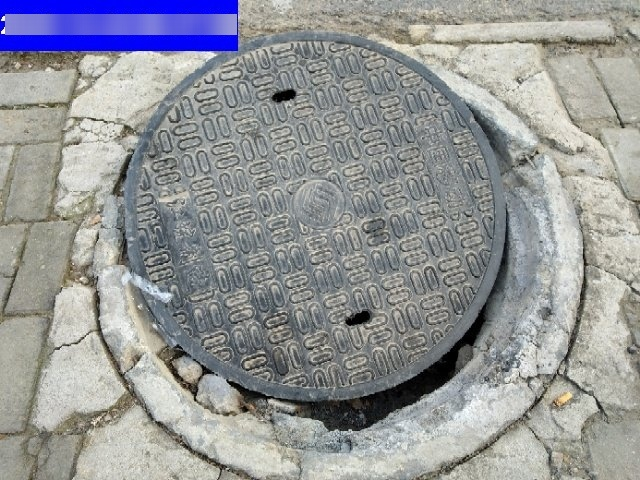uncovered: (100, 32, 556, 452)
